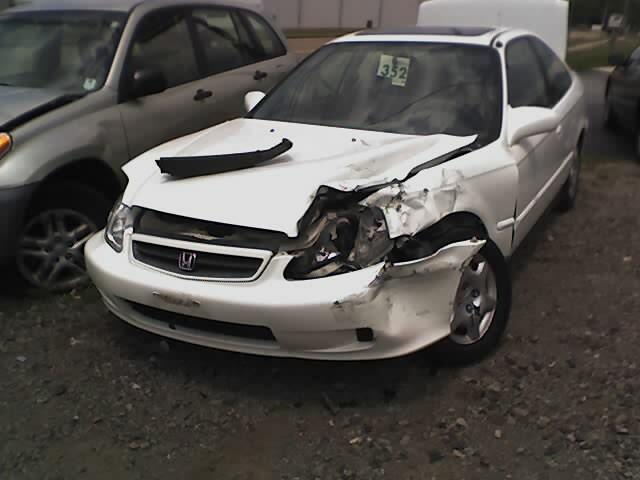bonnet-dent: (200, 118, 454, 191)
fender-dent: (382, 171, 505, 249)
front-bumper-dent: (284, 239, 447, 349)
